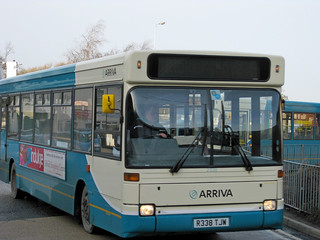bus: (1, 47, 285, 240)
